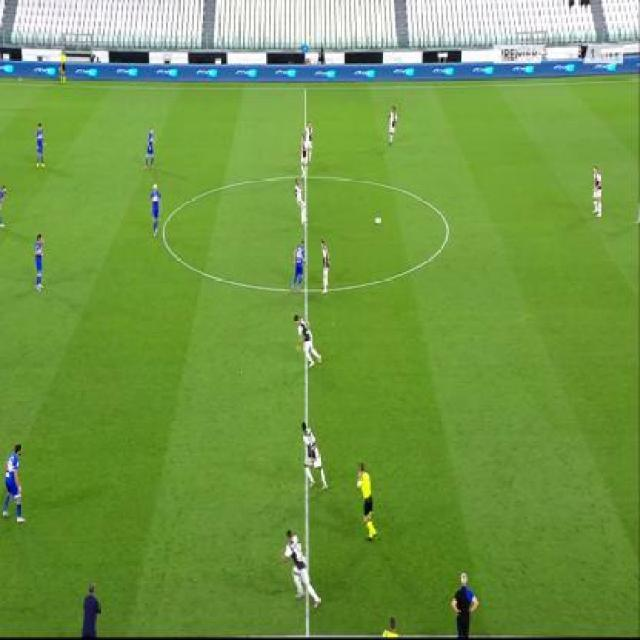ball: (374, 216, 382, 227)
player: (277, 532, 325, 612), (0, 439, 26, 528), (300, 416, 329, 495), (451, 569, 482, 640), (355, 461, 380, 541), (79, 578, 108, 640), (292, 315, 320, 369), (591, 162, 607, 221), (318, 239, 334, 296), (292, 239, 308, 293), (293, 175, 309, 228), (33, 235, 47, 292), (148, 181, 162, 237), (378, 615, 404, 640), (35, 124, 49, 169), (145, 125, 158, 173), (387, 105, 400, 147), (299, 132, 310, 177), (305, 123, 316, 163), (0, 182, 8, 233), (58, 49, 67, 86)
